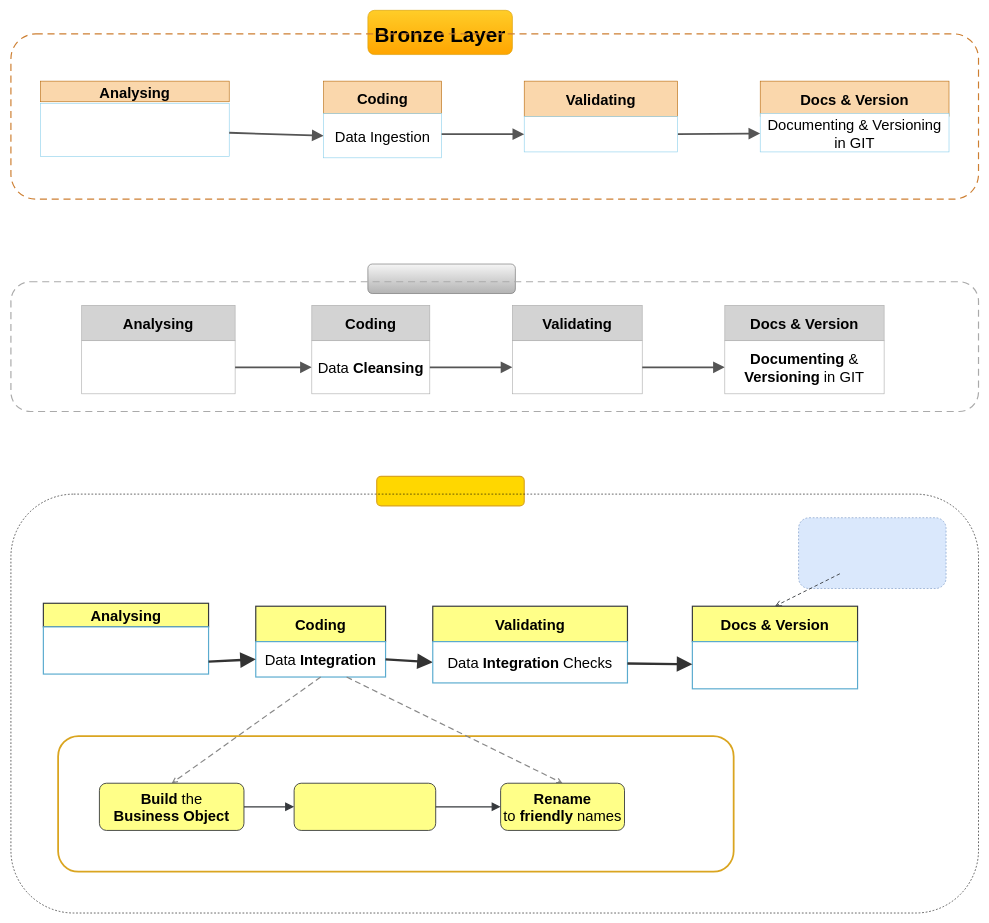
This 989x923 diagram has some shape labels left out. The shapes that lost their labels are listed below. From the top down, each one's centre as x and y in pixels, then its label:
(134,129): Interview Source Systems Experts
(601,134): Data completeness & Schema Checks
(441,278): Silver Layer
(158,367): Explore & Understand the Data
(577,367): Data Correctness Checks
(450,491): Gold Layer
(872,553): Data Model Data Catalog Data Flow
(125,650): Explore & Understand the Business Objects
(774,665): Documenting Versioning in GIT
(364,807): Choose Type Dimension vs Fact
